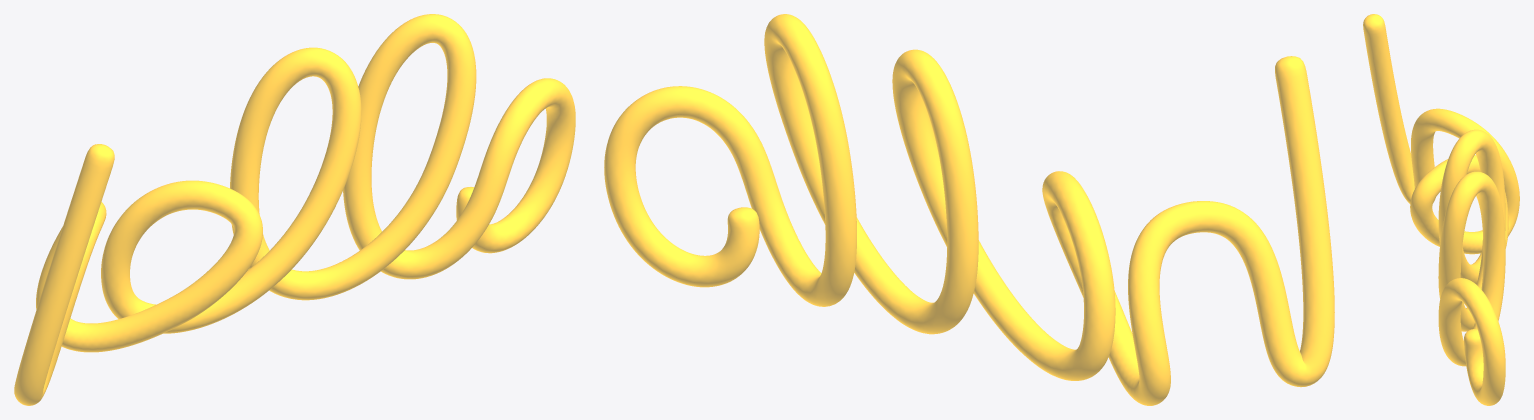
The model's file is Hello_.gltf.
3 views of the same model, side by side, from view 1: azimuth 30°, elevation 25°; view 2: azimuth 150°, elevation 25°; view 3: azimuth 270°, elevation 25° (orthographic). The views are drawn at different scales.
Parts seen in each view (by area): view 1: End; view 2: End; view 3: End.
Part boxes in pixels (box(x1,y1,x2,y2)): End: box(14, 14, 575, 405); End: box(604, 14, 1334, 405); End: box(1363, 14, 1519, 405).
Bounding box in the file's own units: 691 × 298 × 201.
